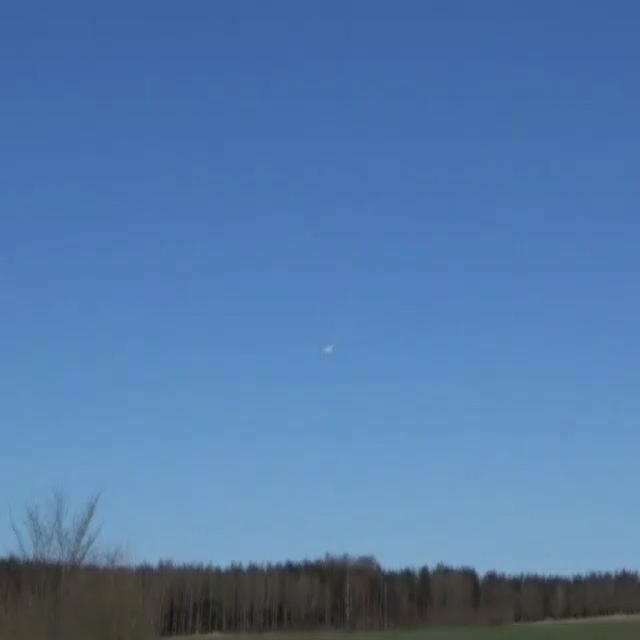drone: (324, 344, 335, 354)
